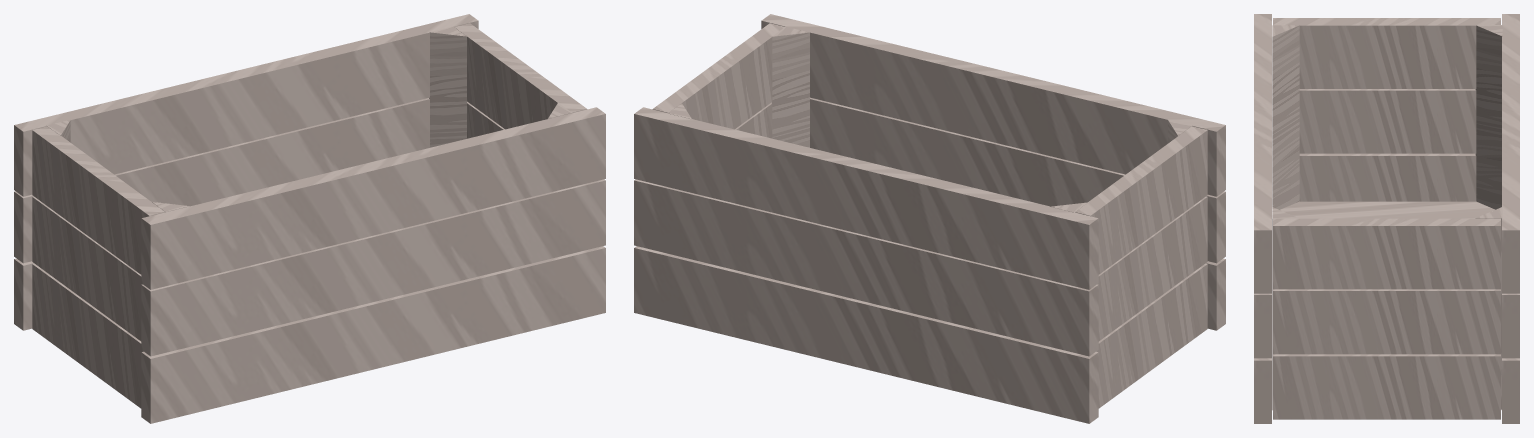
Rendered from Caja puesto JF.fbx.
The picture shows the model from 3 angles, left to right: view 1: azimuth 30°, elevation 25°; view 2: azimuth 150°, elevation 25°; view 3: azimuth 270°, elevation 25°; orthographic projection. The views are drawn at different scales.
Visible parts, largest first — view 1: Box007, Box005, Box006, Box004, Box003, Box008, Box010, Box009, Box011, Box017, Box002, Box012; view 2: Box004, Box002, Box003, Box007, Box006, Box008, Box010, Box009, Box011, Box016, Box005, Box012; view 3: Box011, Box012, Box013, Box008, Box009, Box010, Box015, Box004, Box007, Box014, Box018, Box002 (+5 smaller).
Boxes of the visible parts, <box> form: Box007: <box>141,107,605,289</box>; Box005: <box>141,246,605,423</box>; Box006: <box>141,179,605,356</box>; Box004: <box>14,14,478,196</box>; Box003: <box>14,98,429,263</box>; Box008: <box>32,126,164,274</box>; Box010: <box>32,263,143,408</box>; Box009: <box>32,196,142,341</box>; Box011: <box>454,23,587,129</box>; Box017: <box>429,26,466,147</box>; Box002: <box>14,258,33,330</box>; Box012: <box>467,101,504,138</box>; Box004: <box>634,107,1098,289</box>; Box002: <box>634,246,1098,423</box>; Box003: <box>634,179,1098,356</box>; Box007: <box>761,14,1225,196</box>; Box006: <box>810,97,1225,263</box>; Box008: <box>1075,126,1207,274</box>; Box010: <box>1096,263,1207,408</box>; Box009: <box>1097,196,1207,341</box>; Box011: <box>652,23,784,129</box>; Box016: <box>771,26,809,147</box>; Box005: <box>1206,258,1225,330</box>; Box012: <box>735,102,772,138</box>; Box011: <box>1273,218,1500,289</box>; Box012: <box>1273,289,1500,354</box>; Box013: <box>1273,354,1500,419</box>; Box008: <box>1273,18,1500,88</box>; Box009: <box>1299,89,1476,153</box>; Box010: <box>1299,153,1476,201</box>; Box015: <box>1272,25,1299,209</box>; Box004: <box>1502,14,1519,293</box>; Box007: <box>1254,14,1271,293</box>; Box014: <box>1475,25,1502,209</box>; Box018: <box>1272,201,1494,410</box>; Box002: <box>1502,358,1519,423</box>.
Size of the model in its own units: 43.46 by 18.17 by 22.56.
